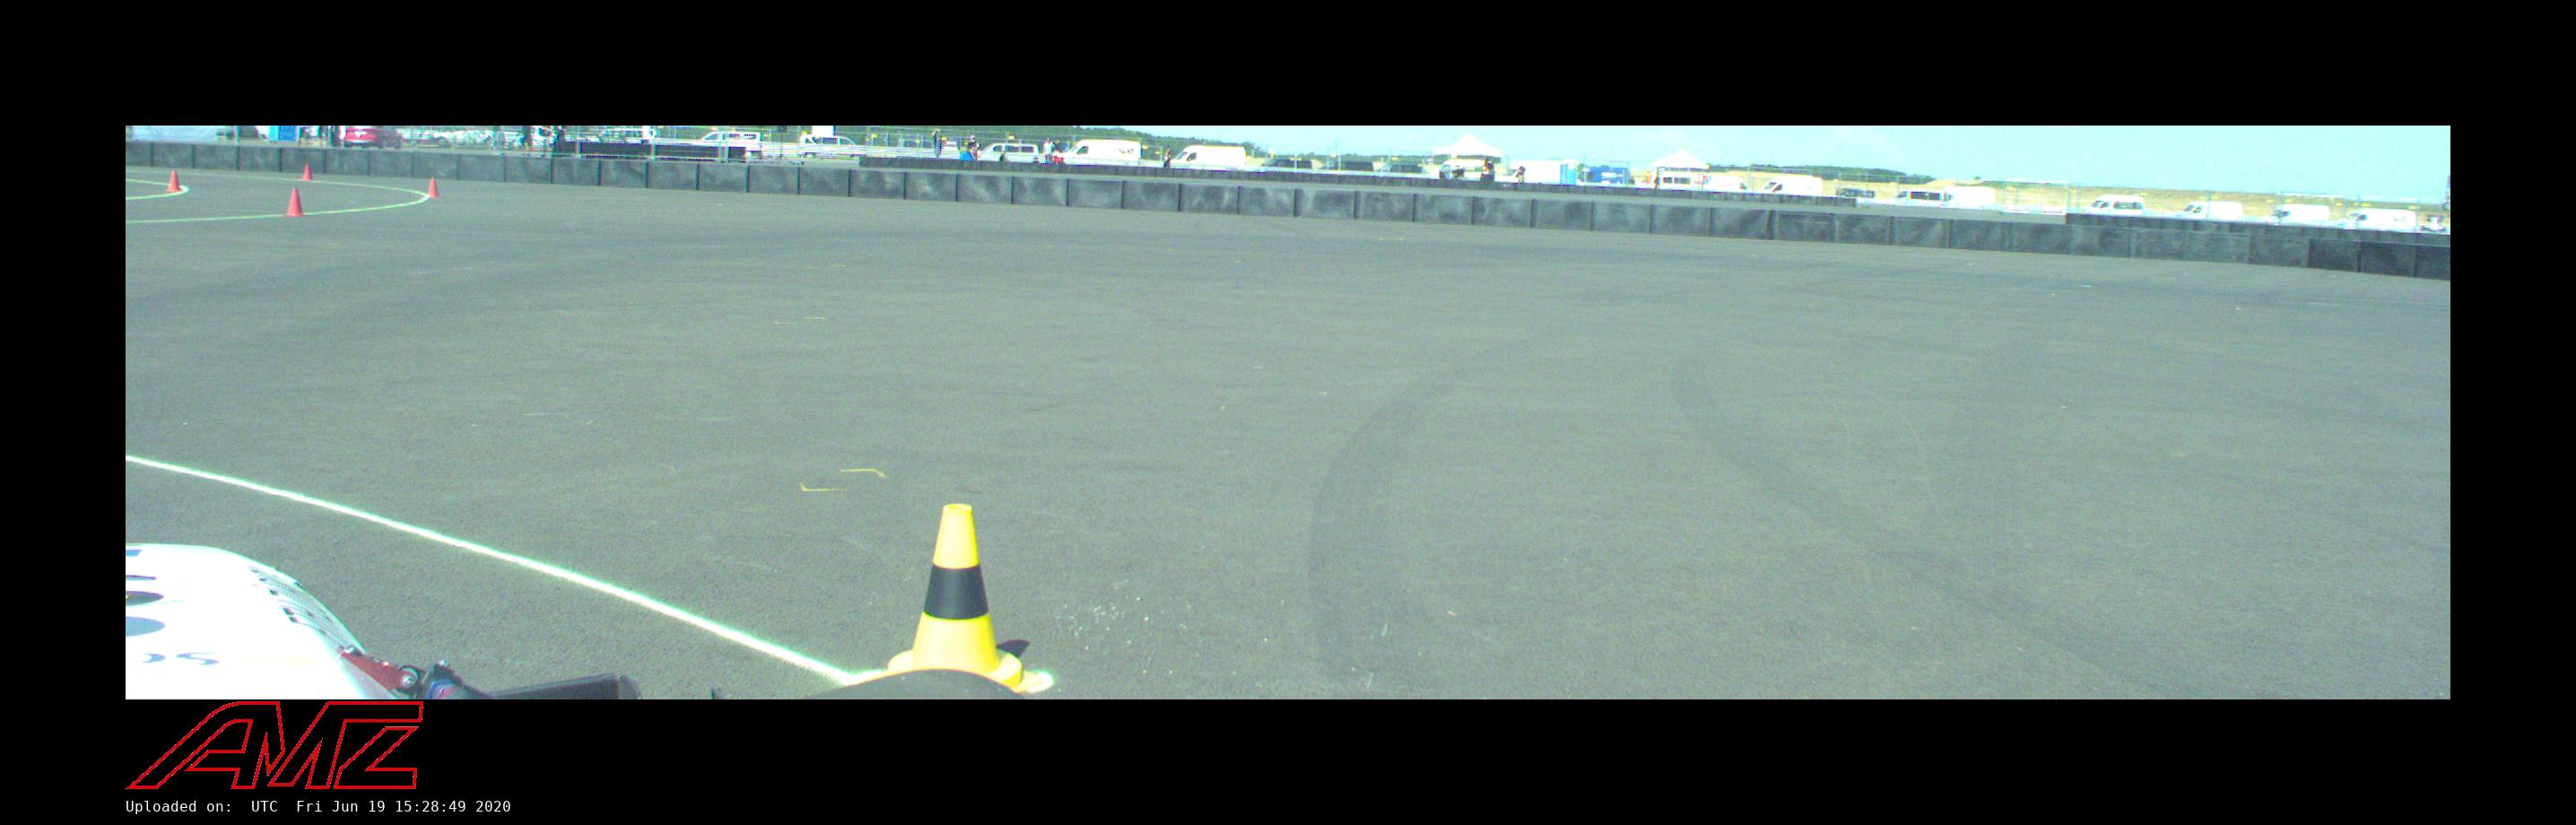yellow_cone: (867, 505, 1040, 694)
